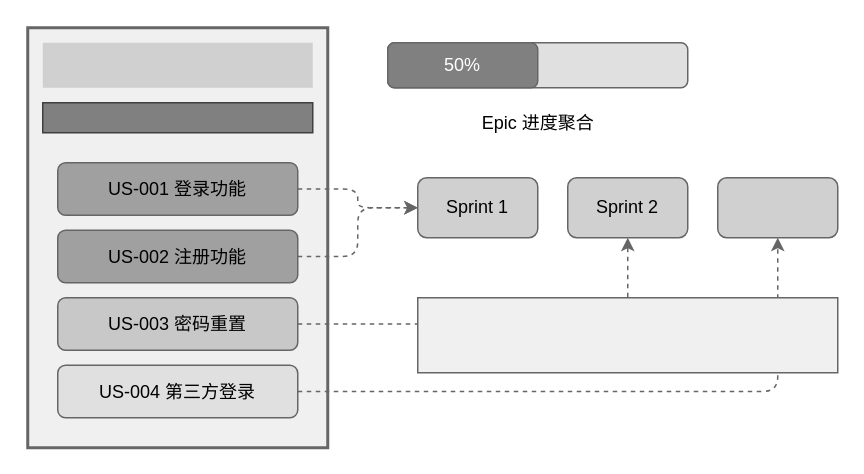
The diagram is 864 pixels wide and 474 high, and some of its shapes have lost their labels. The shapes that lost their labels are listed below. From the top down, each one's centre as x and y in pixels, then its label:
(177,64): Epic: 用户认证系统
(177,117): 颜色标识
(777,207): Sprint 3
(627,334): Epic 跨越多个 Sprint， 自动聚合关联用户故事的完成进度
